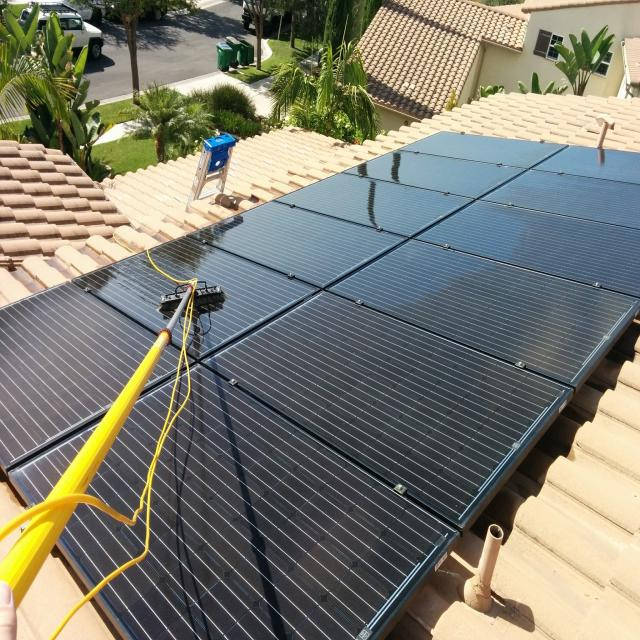clean-solar-panel: (76, 133, 640, 361)
dust-solar-panel: (101, 292, 571, 638), (0, 283, 154, 503), (89, 347, 178, 512)
